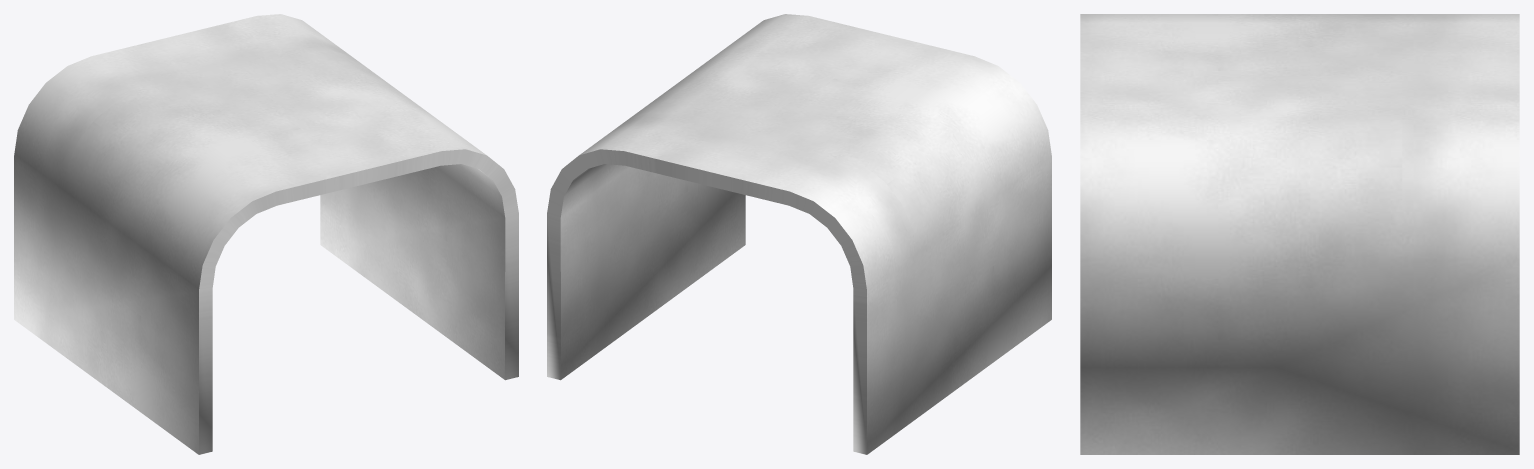
File: chair_2_w.fbx
The picture shows the model from 3 angles, left to right: view 1: azimuth 30°, elevation 25°; view 2: azimuth 150°, elevation 25°; view 3: azimuth 270°, elevation 25°; orthographic projection. The views are drawn at different scales.
Visible parts, largest first — view 1: chair_2_w; view 2: chair_2_w; view 3: chair_2_w.
Boxes of the visible parts, box(x1,y1,x2,y2) form: chair_2_w: box(14, 14, 518, 454); chair_2_w: box(547, 14, 1051, 454); chair_2_w: box(1080, 14, 1519, 454).
Bounding box in the file's own units: 0.6961 × 0.5083 × 0.6961.
